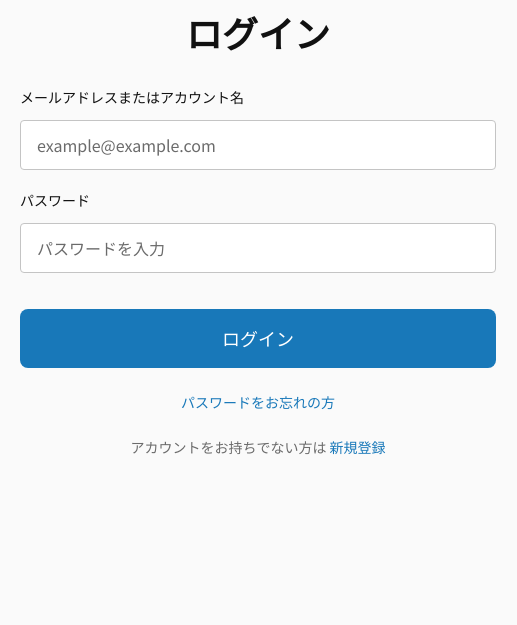
LoginForm › 第2要素（二段階認証） › totp_required を受け取ると認証コード欄を表示する
Type "test@example.com" into the field labelled "メールアドレスまたはアカウント名" at (258,145), box [20,120,496,170]
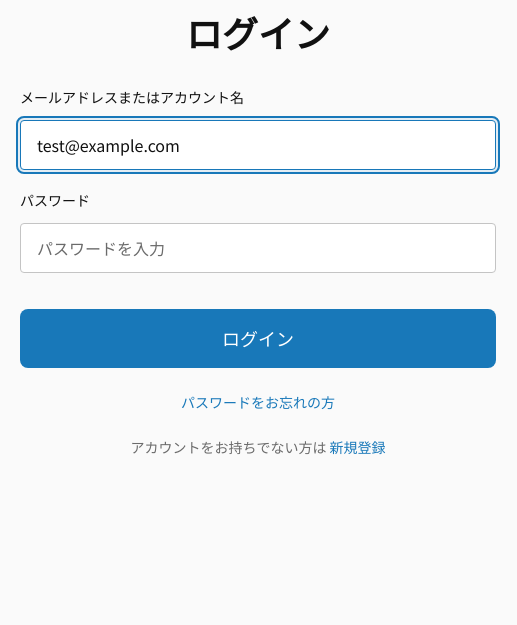
Type "Password1" into the password field labelled "パスワード" at (258,248), box [20,223,496,273]
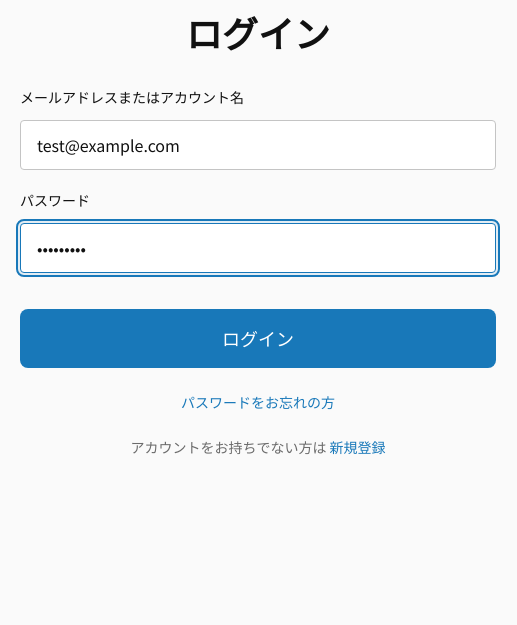
Click the button "ログイン" at (258,338), box [20,309,496,368]
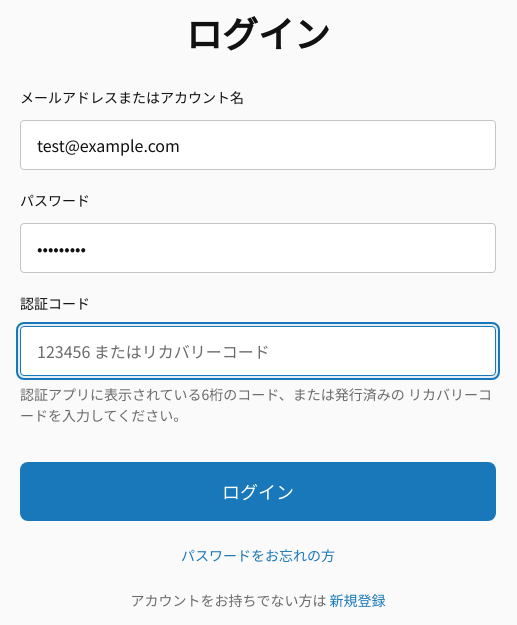
Now the field labelled "認証コード" is shown, box [20,326,496,376]
